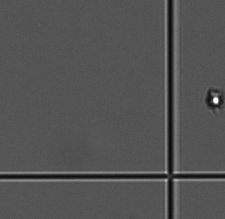Living Cell: (206, 90, 223, 110)
